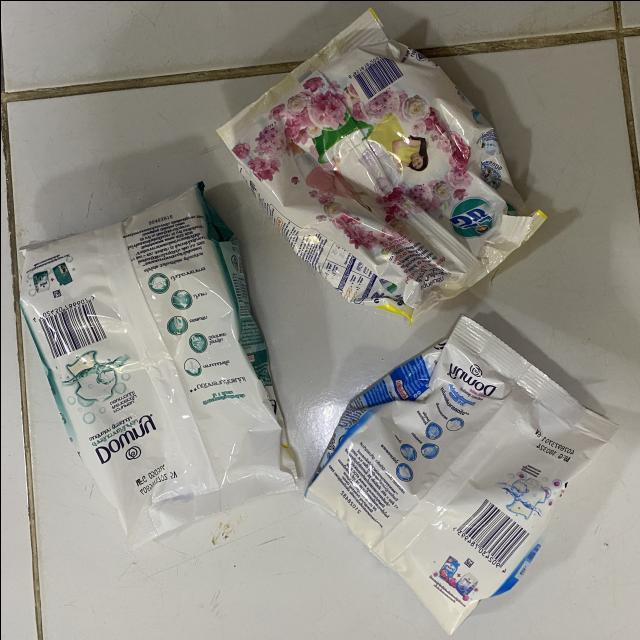plastik: (217, 9, 545, 319), (19, 182, 296, 548), (305, 315, 616, 633)
